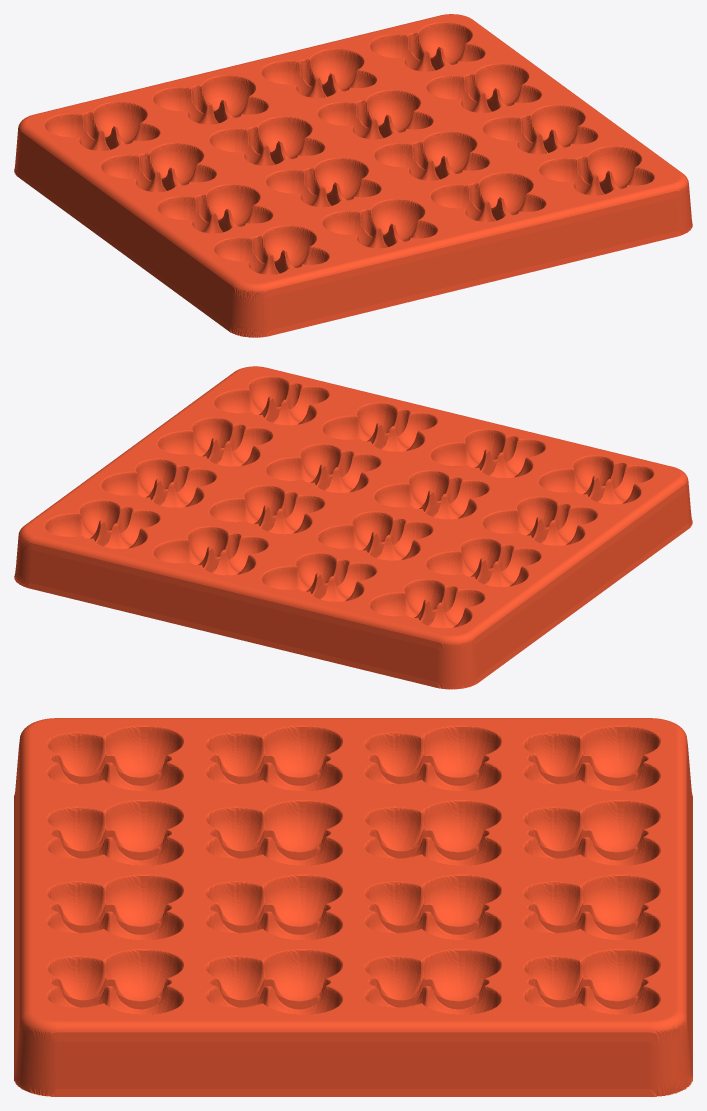
File: mold.glb
3 views of the same model, one above another, from view 1: azimuth 30°, elevation 25°; view 2: azimuth 150°, elevation 25°; view 3: azimuth 270°, elevation 25° (orthographic). The views are drawn at different scales.
Parts seen in each view (by area): view 1: geometry_0; view 2: geometry_0; view 3: geometry_0.
Part boxes in pixels (x1=…): geometry_0: x1=14, y1=14, x2=692, y2=337; geometry_0: x1=14, y1=366, x2=692, y2=689; geometry_0: x1=14, y1=718, x2=692, y2=1096.
Size of the model in its own units: 0.1569 by 0.0159 by 0.1423.
